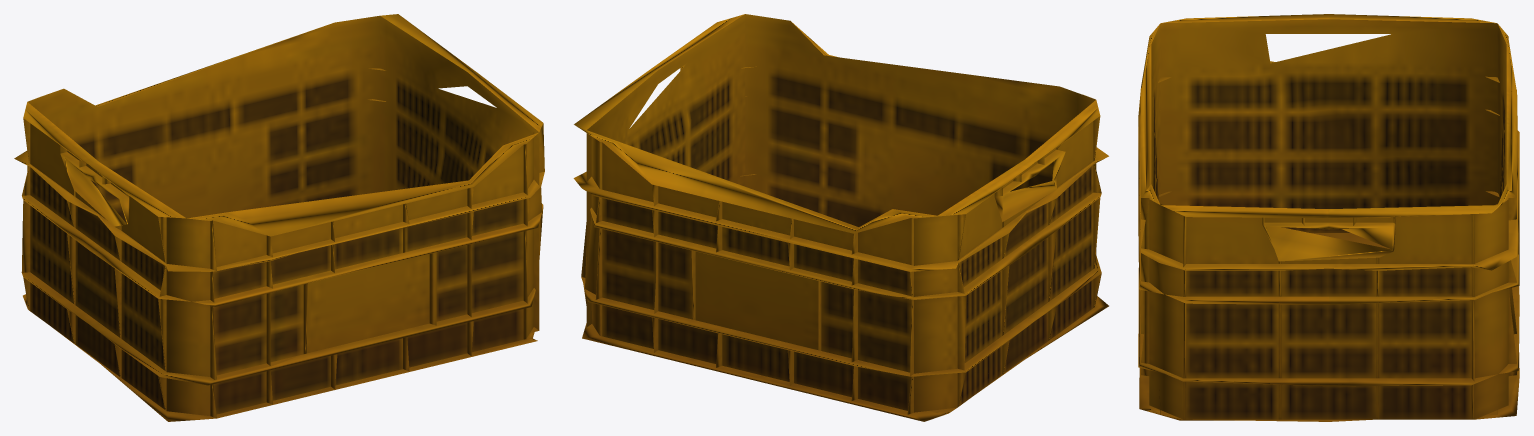
Rendered from plastic_crate_02.glb.
The picture shows the model from 3 angles, left to right: view 1: azimuth 30°, elevation 25°; view 2: azimuth 150°, elevation 25°; view 3: azimuth 270°, elevation 25°; orthographic projection. The views are drawn at different scales.
Visible parts, largest first — view 1: plastic_crate_02; view 2: plastic_crate_02; view 3: plastic_crate_02.
Boxes of the visible parts, box(x1,y1,x2,y2) form: plastic_crate_02: box(14, 14, 544, 421); plastic_crate_02: box(573, 14, 1108, 421); plastic_crate_02: box(1138, 14, 1519, 421).
Size of the model in its own units: 0.5055 by 0.2504 by 0.4055.
1 material, 1 textured.
